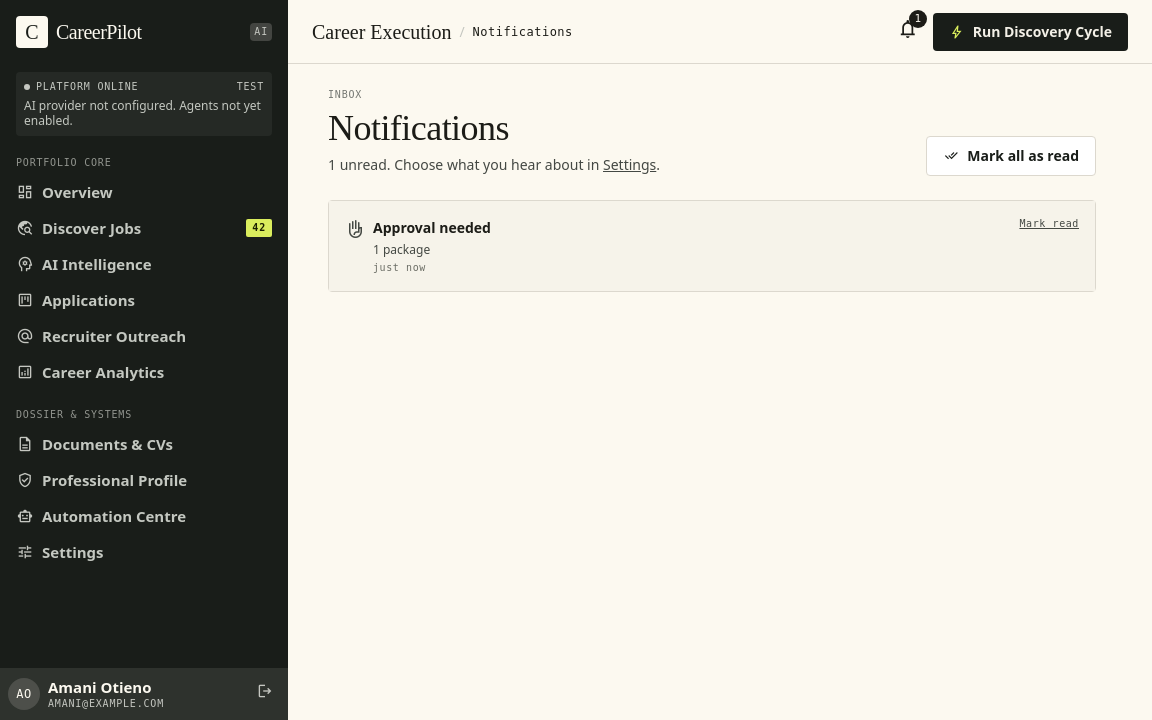
Test: notifications › lists notifications and marks them read
Expected: the text "1 unread. Choose what you hear about in Settings ." is shown, [328,154,660,176]
Click the button named "Mark \"Approval needed\" as read".
click(1049, 224)  # box [1019,217,1079,231]
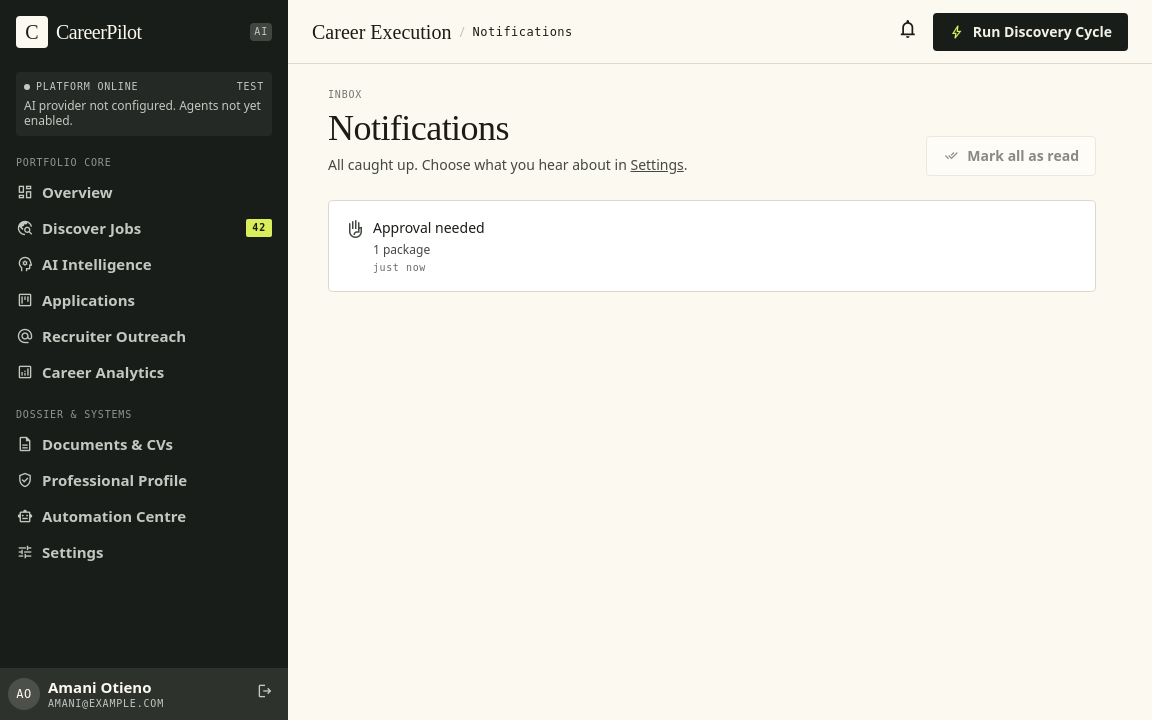
Expected: the text "All caught up. Choose what you hear about in Settings ." is shown, [328,154,688,176]
